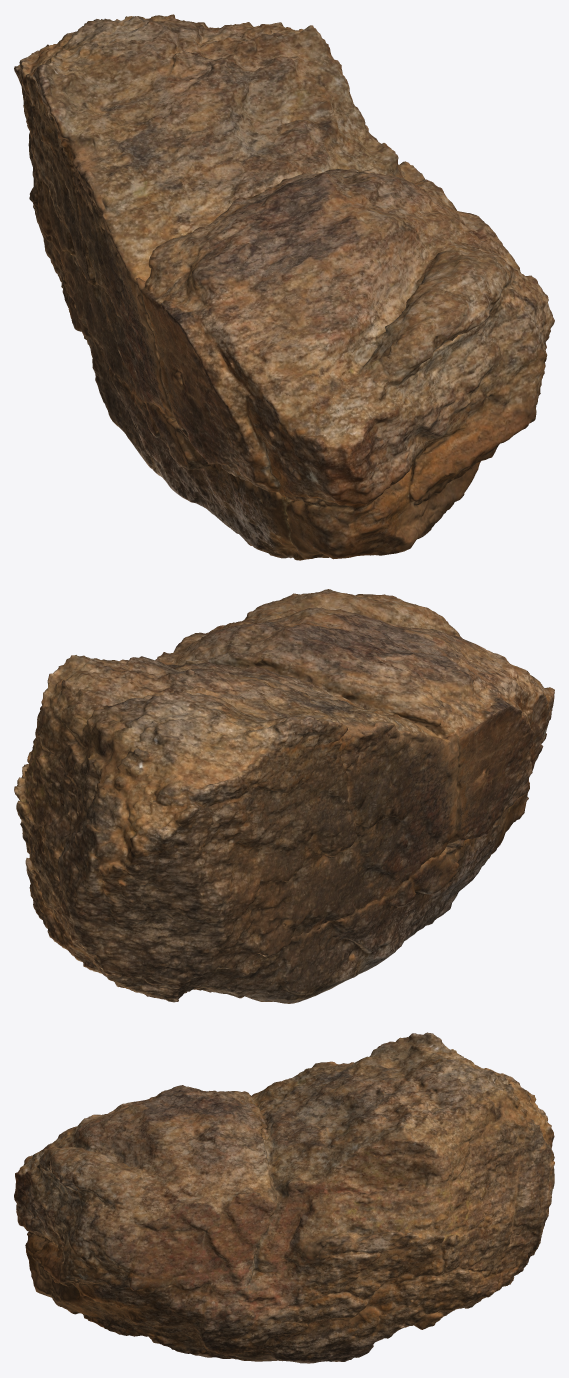
File: namaqualand_boulder_06.glb
The picture shows the model from 3 angles, top to bottom: view 1: azimuth 30°, elevation 25°; view 2: azimuth 150°, elevation 25°; view 3: azimuth 270°, elevation 25°; orthographic projection. The views are drawn at different scales.
Visible parts, largest first — view 1: namaqualand_boulder_06; view 2: namaqualand_boulder_06; view 3: namaqualand_boulder_06.
Boxes of the visible parts, left/top/right/bottom form: namaqualand_boulder_06: left=14, top=14, right=554, bottom=560; namaqualand_boulder_06: left=14, top=589, right=554, bottom=1003; namaqualand_boulder_06: left=14, top=1032, right=554, bottom=1363.
Size of the model in its own units: 0.675 by 0.6516 by 1.21.
1 material, 1 textured.
